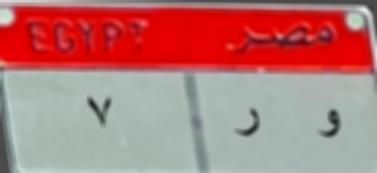7: (80, 88, 117, 130)
raa: (232, 103, 264, 145)
waw: (306, 98, 346, 145)
